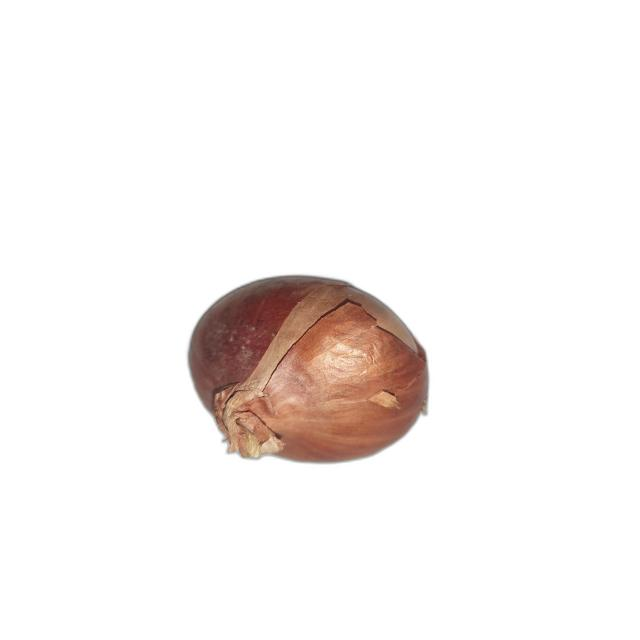onion: (186, 274, 432, 466)
